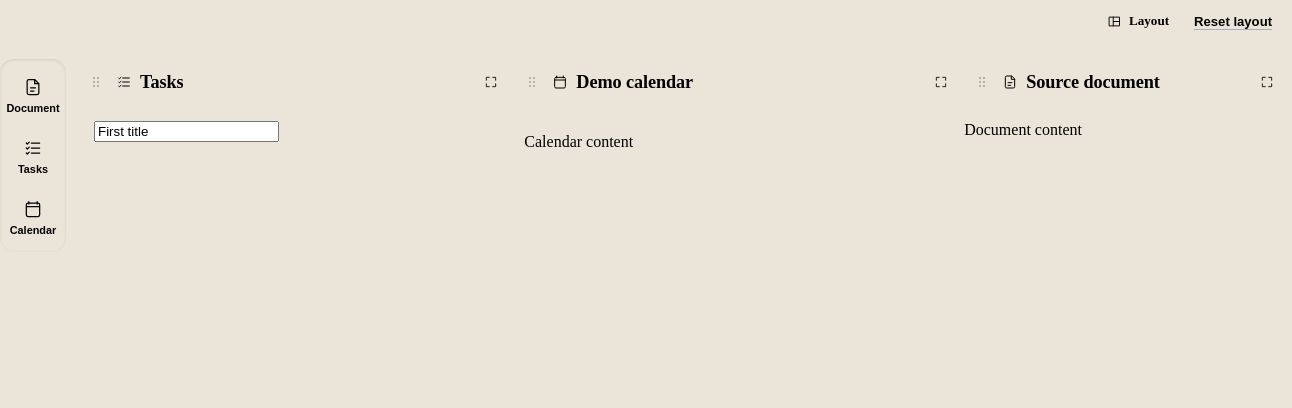
Test case: clicking a panel move handle opens layout options for that panel
Step 1. Click the button named "Drag Tasks panel" → {"x": 96, "y": 82}, box [84,67,108,97]
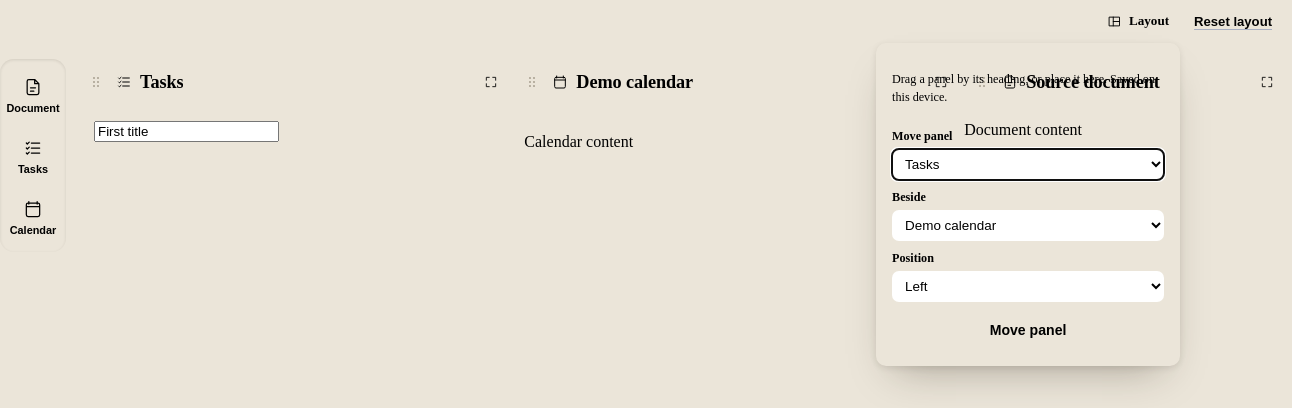
Expected: the dropdown named "Panel to move" shows "Tasks", [892,149,1164,180]
